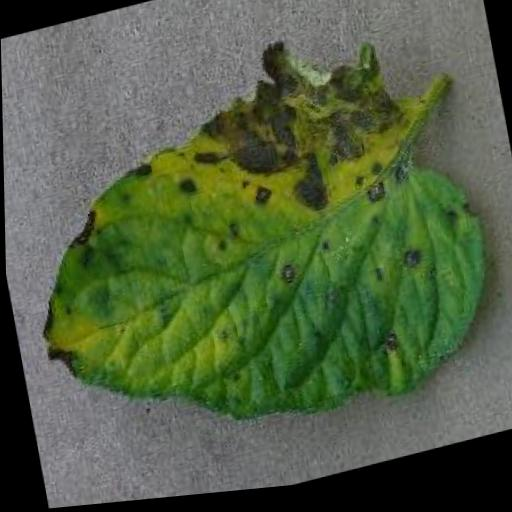Early Blight: (1, 0, 511, 482)
